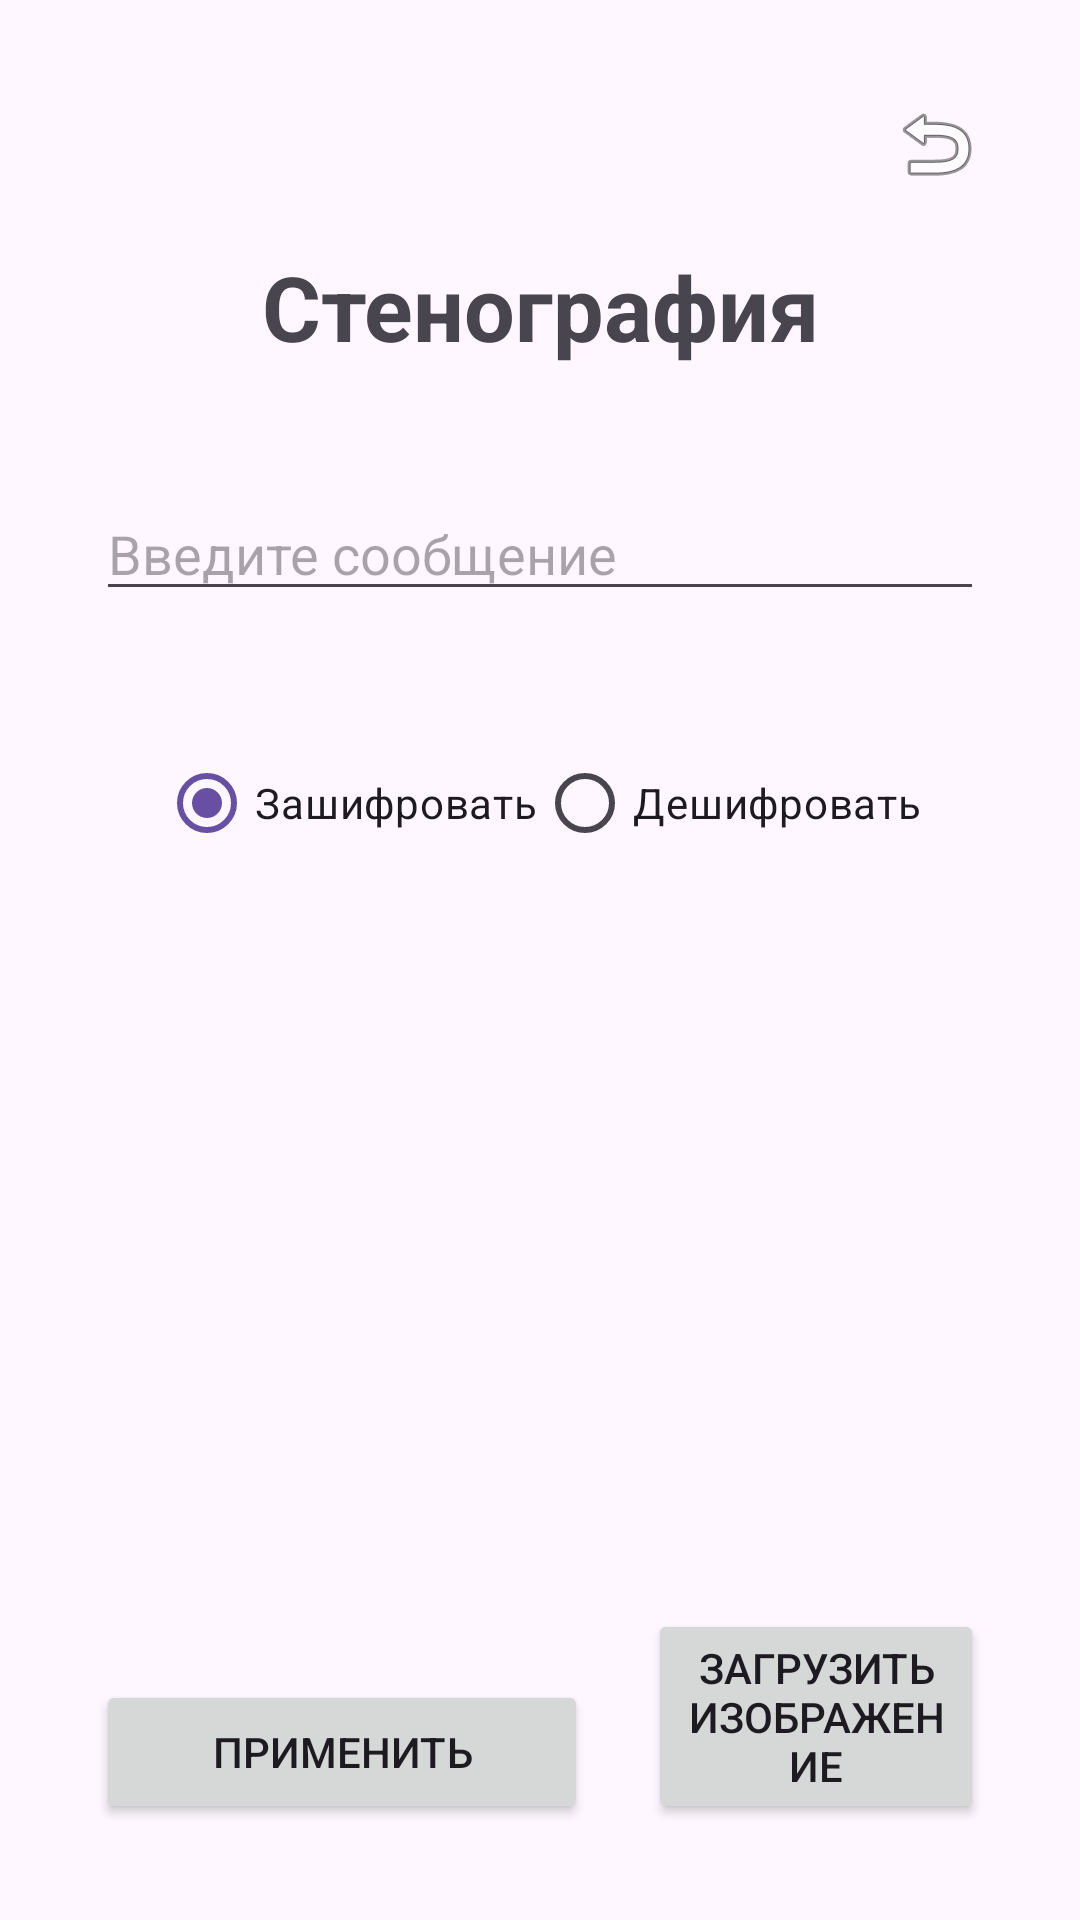

Where icons sit on this 1080×1920 app screen, as (x1, y1, x2, y2):
revert: (903, 113, 972, 176)
